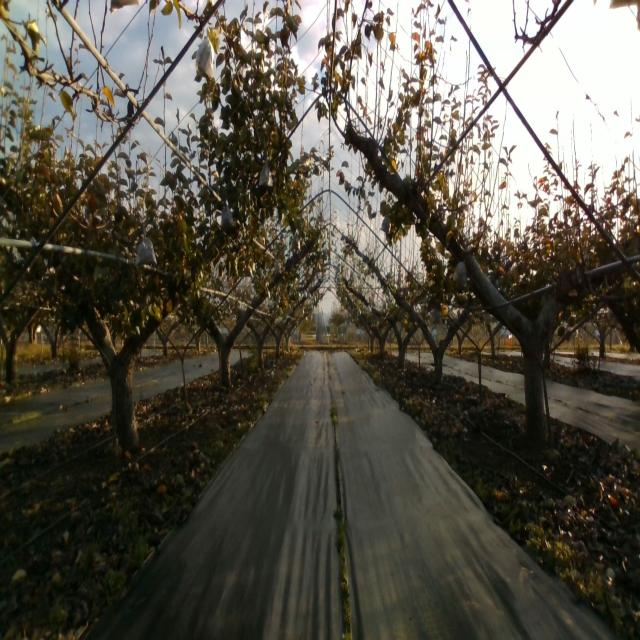pearbags: (195, 28, 215, 79), (135, 229, 157, 267), (452, 260, 467, 288), (220, 202, 234, 231), (258, 160, 273, 187), (380, 214, 391, 235)
